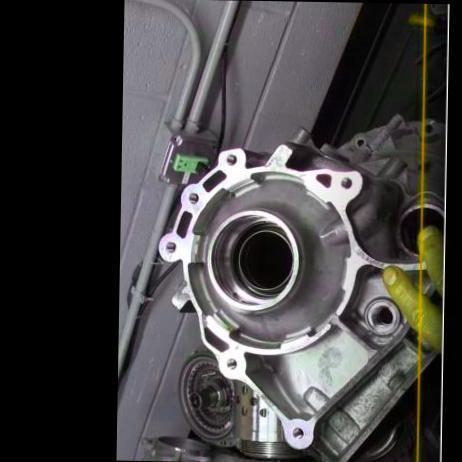hole: (338, 176, 353, 191), (290, 426, 304, 440), (224, 152, 237, 166), (224, 356, 236, 371), (186, 190, 198, 204), (162, 241, 174, 254)
